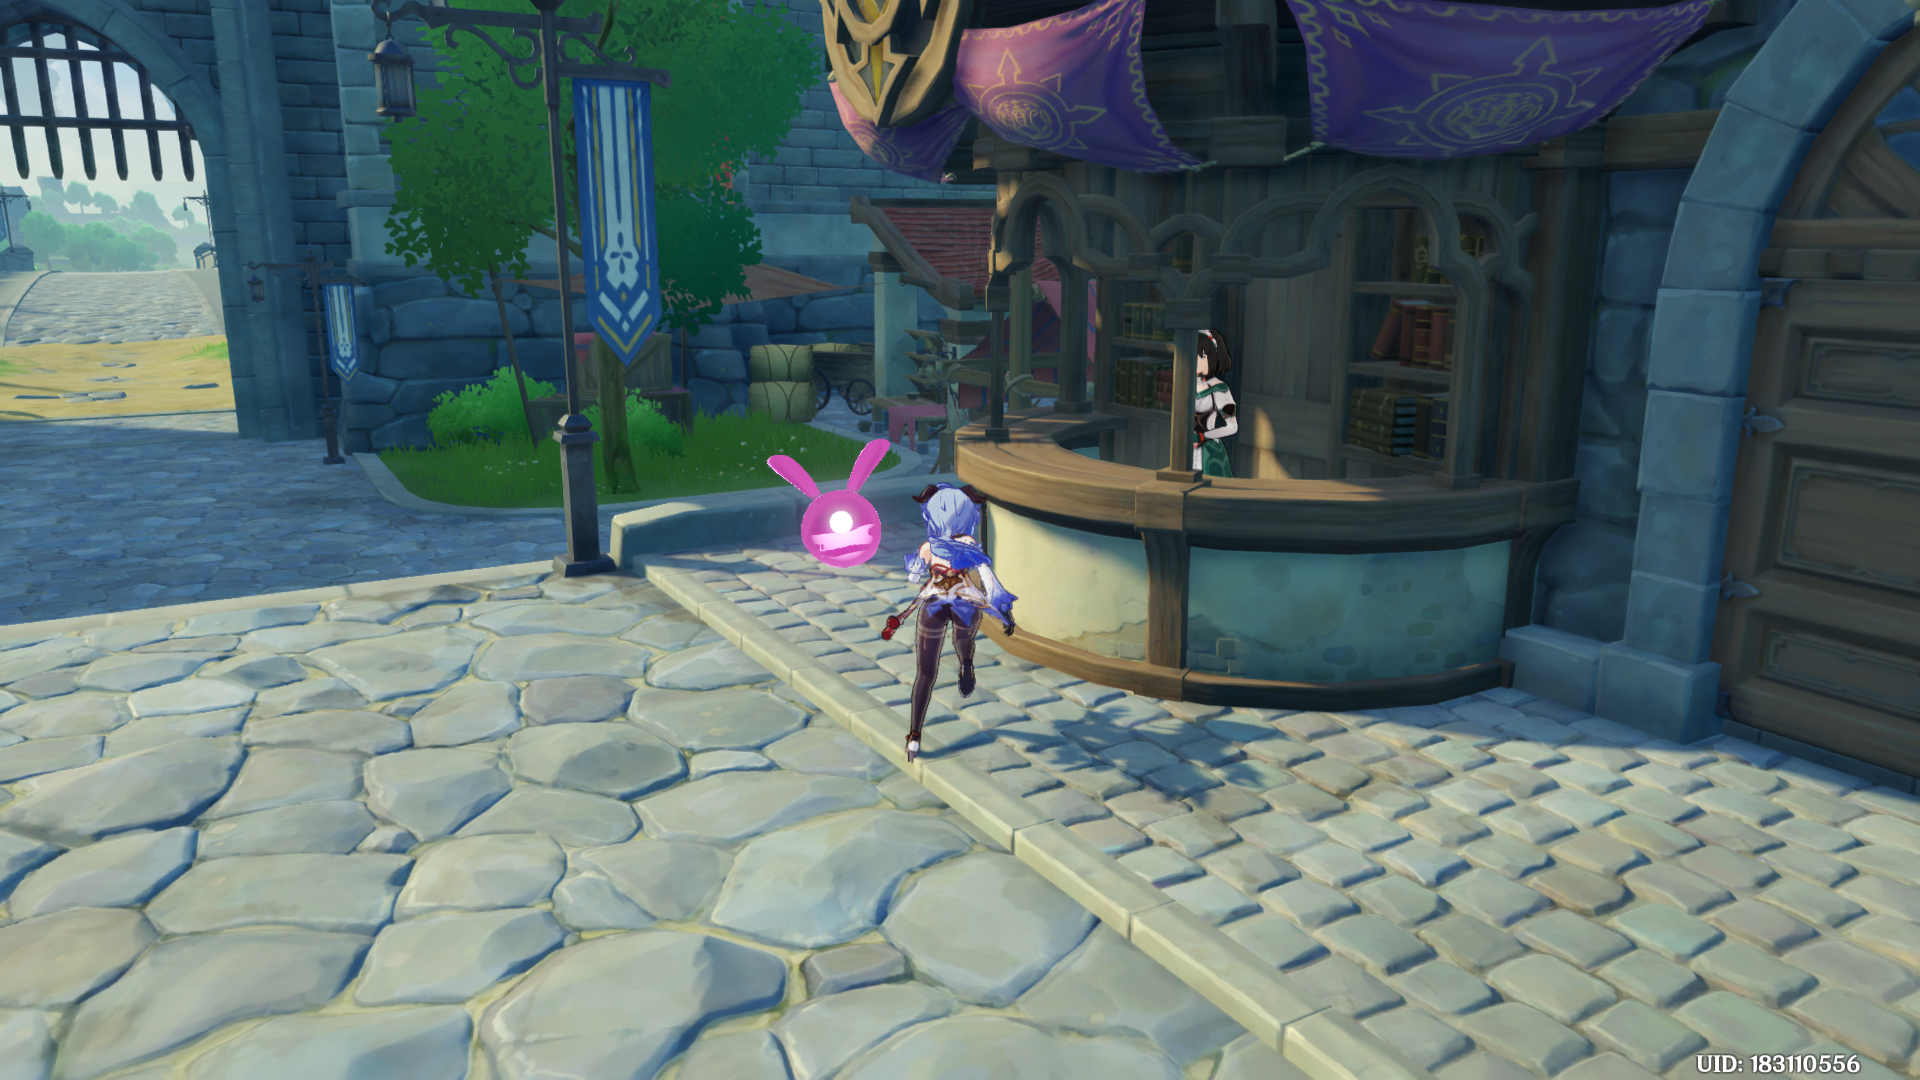character: (837, 469, 1050, 789)
